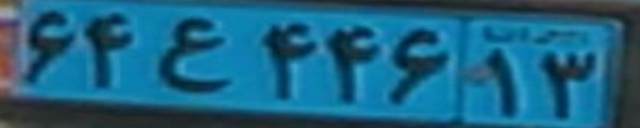1: (485, 47, 526, 116)
3: (539, 50, 597, 119)
4: (260, 22, 317, 101), (325, 26, 382, 102), (84, 13, 136, 87)
6: (391, 28, 450, 106), (25, 12, 73, 88)
ain: (158, 18, 233, 91)
